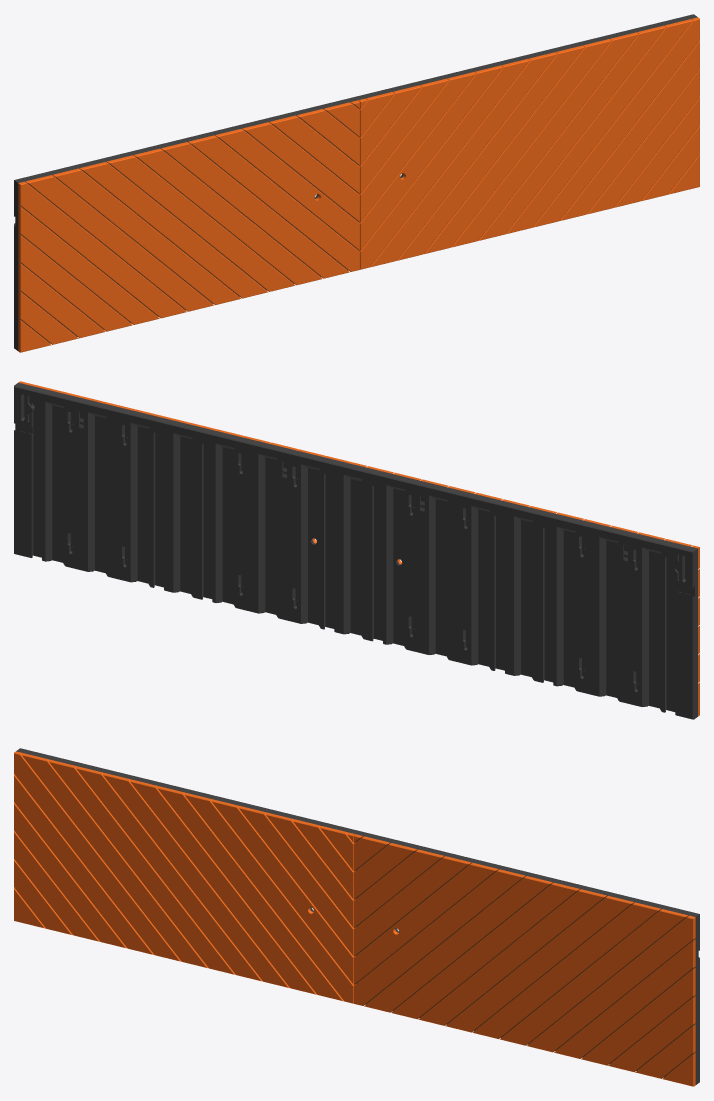
File: Faceplate_Chevron_4W-15H.lib.glb
3 views of the same model, one above another, from view 1: azimuth 30°, elevation 25°; view 2: azimuth 150°, elevation 25°; view 3: azimuth 330°, elevation 25° (orthographic).
Visible parts, largest first — view 1: Faceplate_Chevron_4W-15H; view 2: Faceplate_Chevron_4W-15H; view 3: Faceplate_Chevron_4W-15H.
Boxes of the visible parts, x1=… form: Faceplate_Chevron_4W-15H: x1=14, y1=14, x2=699, y2=352; Faceplate_Chevron_4W-15H: x1=14, y1=381, x2=699, y2=719; Faceplate_Chevron_4W-15H: x1=14, y1=748, x2=699, y2=1086.
Bounding box in the file's own units: 351 × 83 × 6.21.
